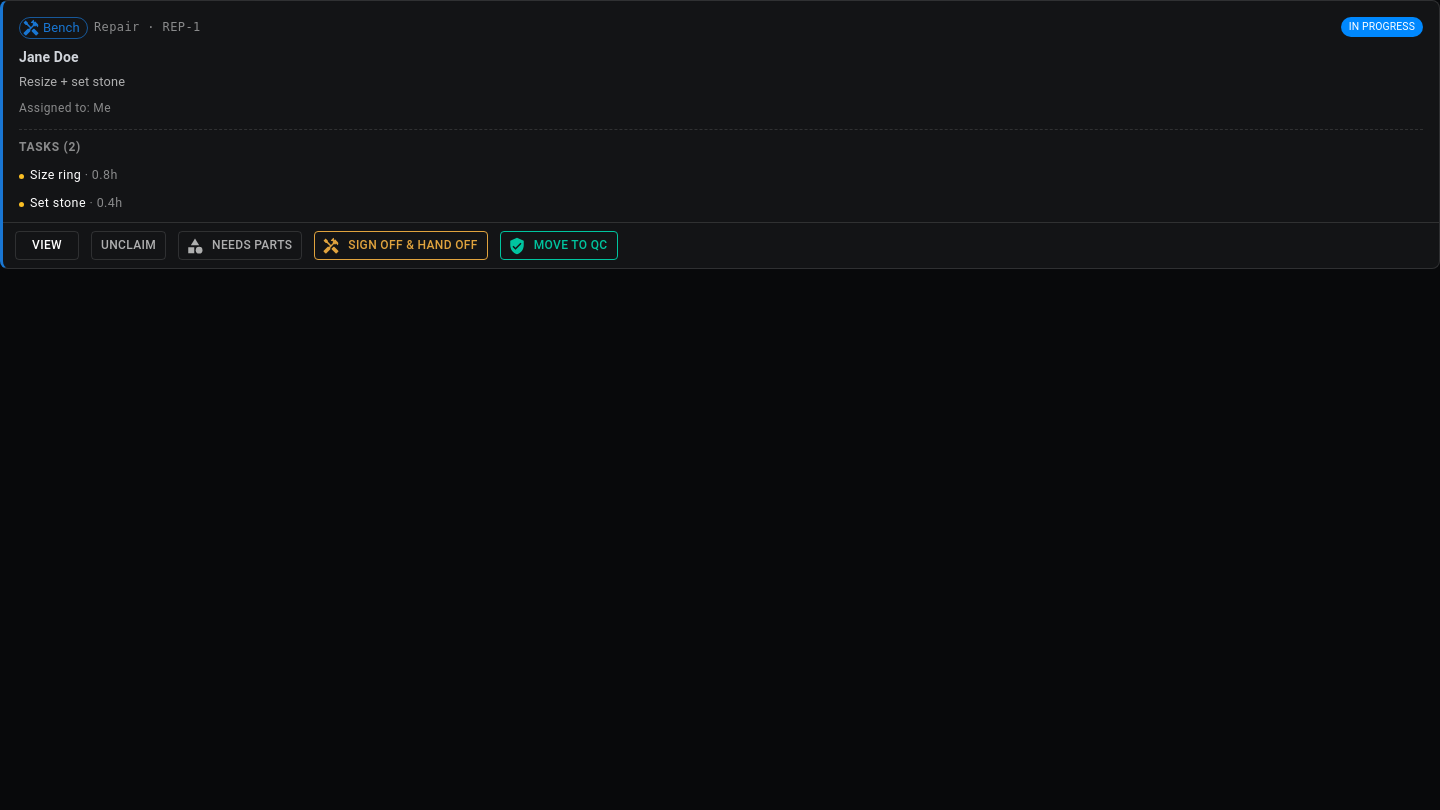
Test case: BenchWorkCard (React 19 render smoke) › opens the sign-off & hand-off dialog and lists the uncredited tasks
This screenshot has width=1440, height=810.
Click the button "Sign off & hand off": (401, 246) [314,231,488,260]
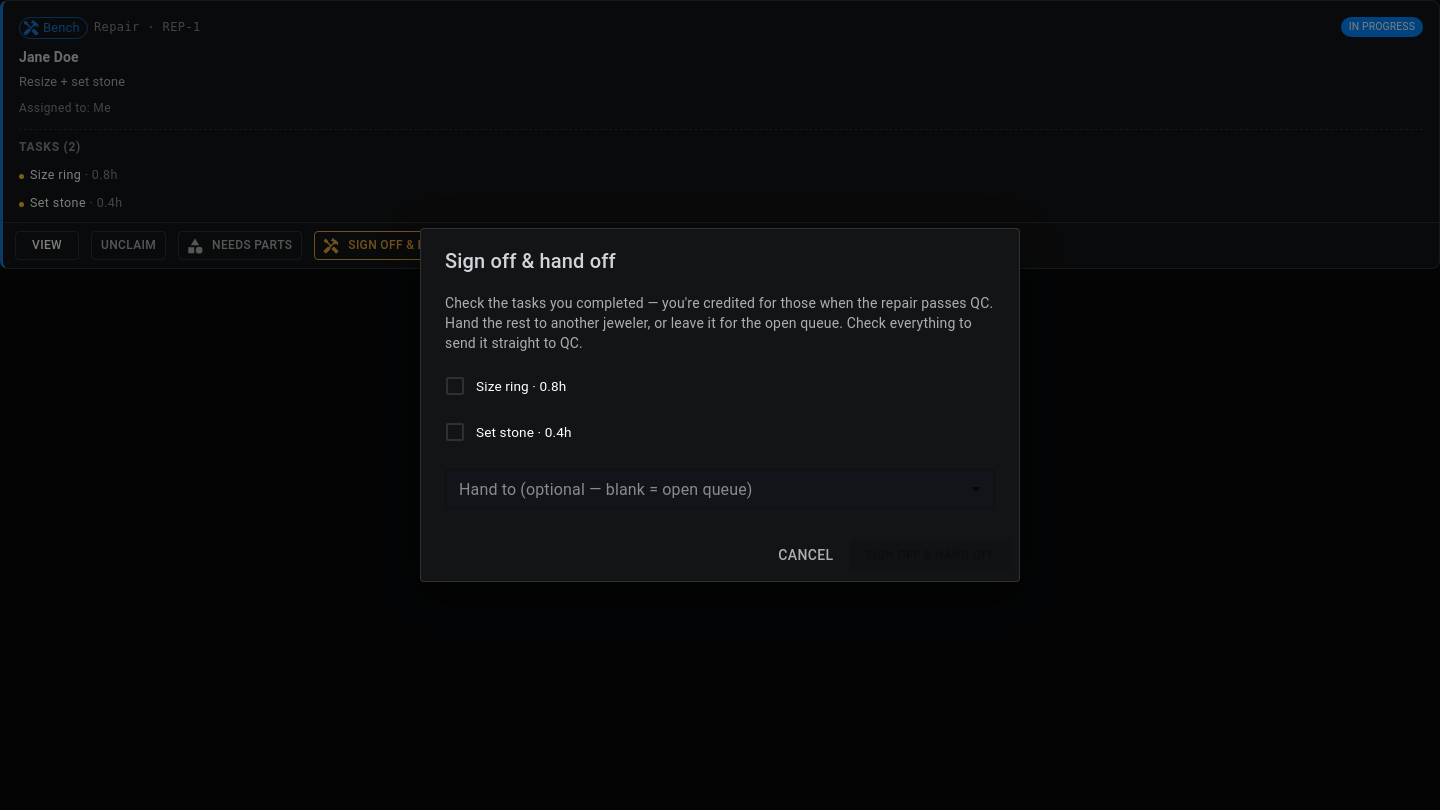
Expected: the text "Check the tasks you completed" is shown, [445,295,993,351]
